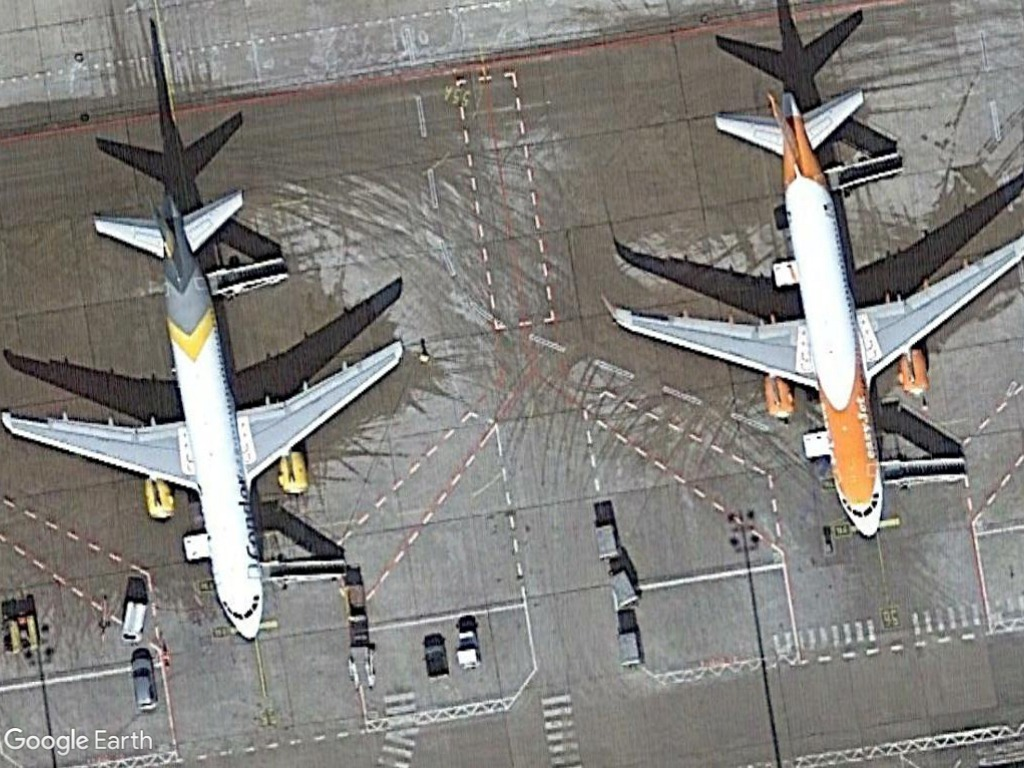airliner: (605, 80, 1024, 546), (0, 191, 414, 643)
car: (127, 652, 161, 712)
stairtruck: (206, 253, 291, 304), (259, 548, 355, 591), (825, 150, 912, 194), (877, 450, 969, 488)
